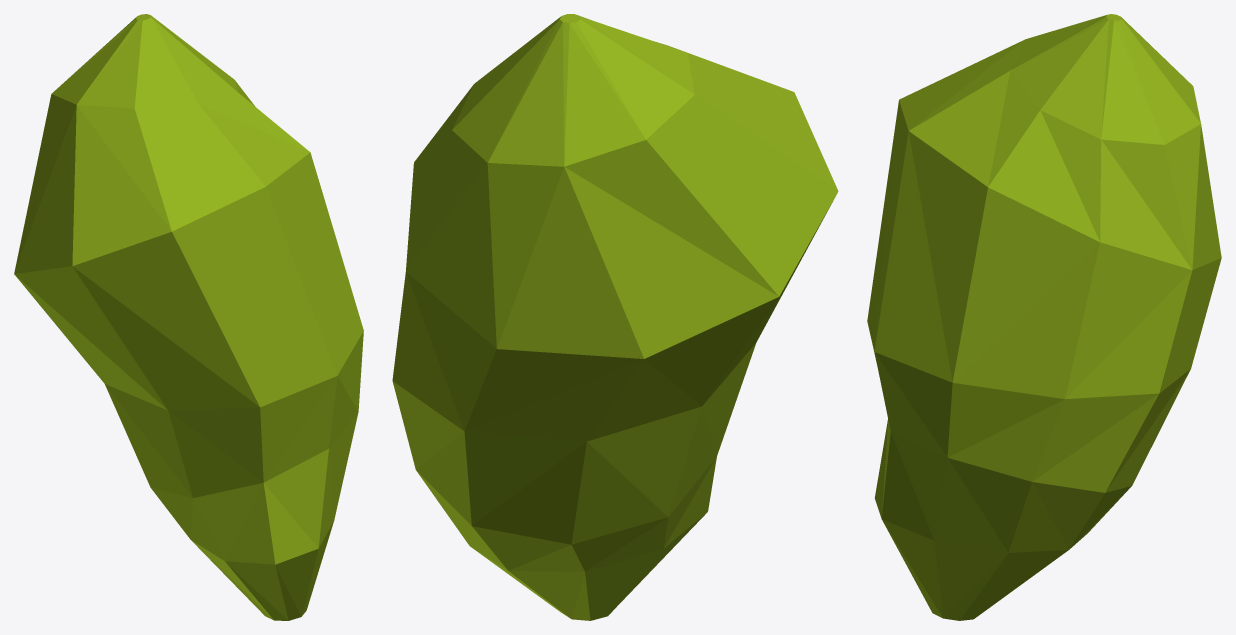
File: Vegetation_Modular_Tree_Foliage_Clump_Small_13.fbx
3 views of the same model, side by side, from view 1: azimuth 30°, elevation 25°; view 2: azimuth 150°, elevation 25°; view 3: azimuth 270°, elevation 25° (orthographic). The views are drawn at different scales.
Visible parts, largest first — view 1: Vegetation_Modular_Tree_Foliage_Clump_Small_13; view 2: Vegetation_Modular_Tree_Foliage_Clump_Small_13; view 3: Vegetation_Modular_Tree_Foliage_Clump_Small_13.
Part boxes in pixels (x1=…): Vegetation_Modular_Tree_Foliage_Clump_Small_13: x1=14, y1=14, x2=363, y2=620; Vegetation_Modular_Tree_Foliage_Clump_Small_13: x1=392, y1=14, x2=838, y2=620; Vegetation_Modular_Tree_Foliage_Clump_Small_13: x1=867, y1=14, x2=1221, y2=620.
Size of the model in its own units: 929 by 1594 by 905.
